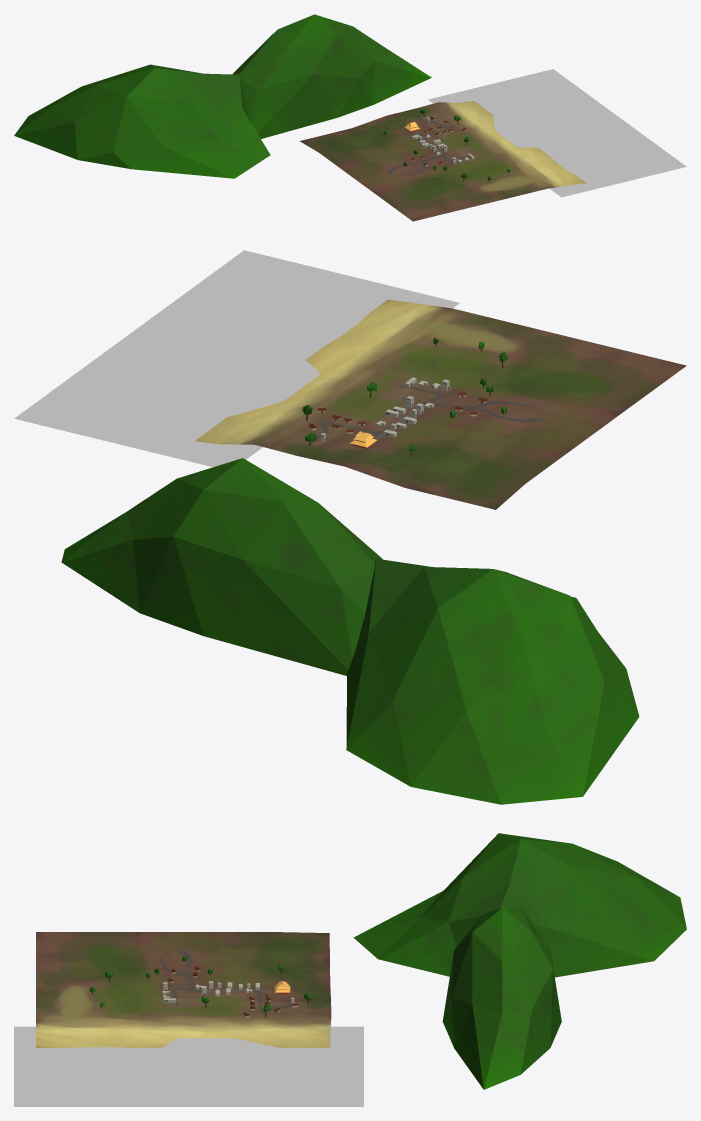
The model's file is huedanang.fbx.
3 views of the same model, one above another, from view 1: azimuth 30°, elevation 25°; view 2: azimuth 150°, elevation 25°; view 3: azimuth 270°, elevation 25° (orthographic). The views are drawn at different scales.
Visible parts, largest first — view 1: Icosphere, Plane.001, Plane; view 2: Icosphere, Plane.001, Plane; view 3: Icosphere, Plane.001, Plane.
Part boxes in pixels (x1,y1,x2,y2): Icosphere: (14,14,431,178); Plane.001: (300,101,586,221); Plane: (428,69,686,197); Icosphere: (61,458,639,804); Plane.001: (195,299,686,509); Plane: (14,250,459,467); Icosphere: (353,833,686,1089); Plane.001: (36,932,331,1047); Plane: (14,1026,363,1106).
Bounding box in the file's own units: 88032 × 19025 × 90174.
